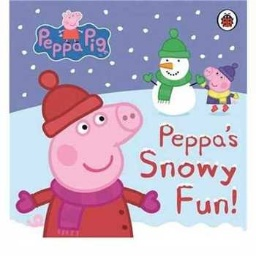Peppa: (16, 70, 162, 238)
